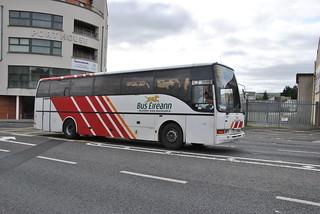bus: (30, 61, 245, 144)
